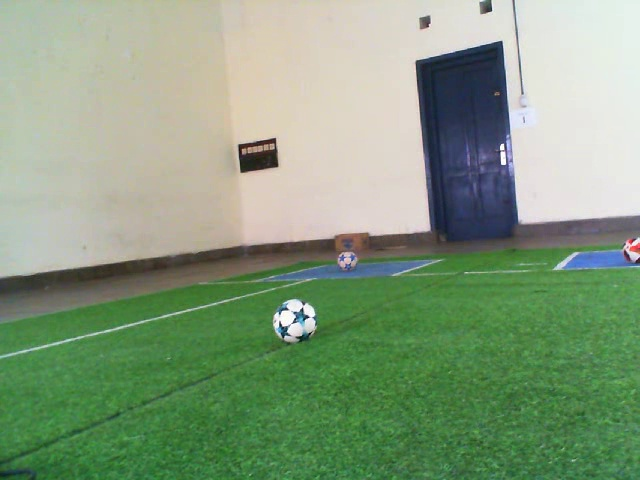ball: (270, 295, 320, 347), (620, 233, 640, 267), (335, 248, 360, 274)
